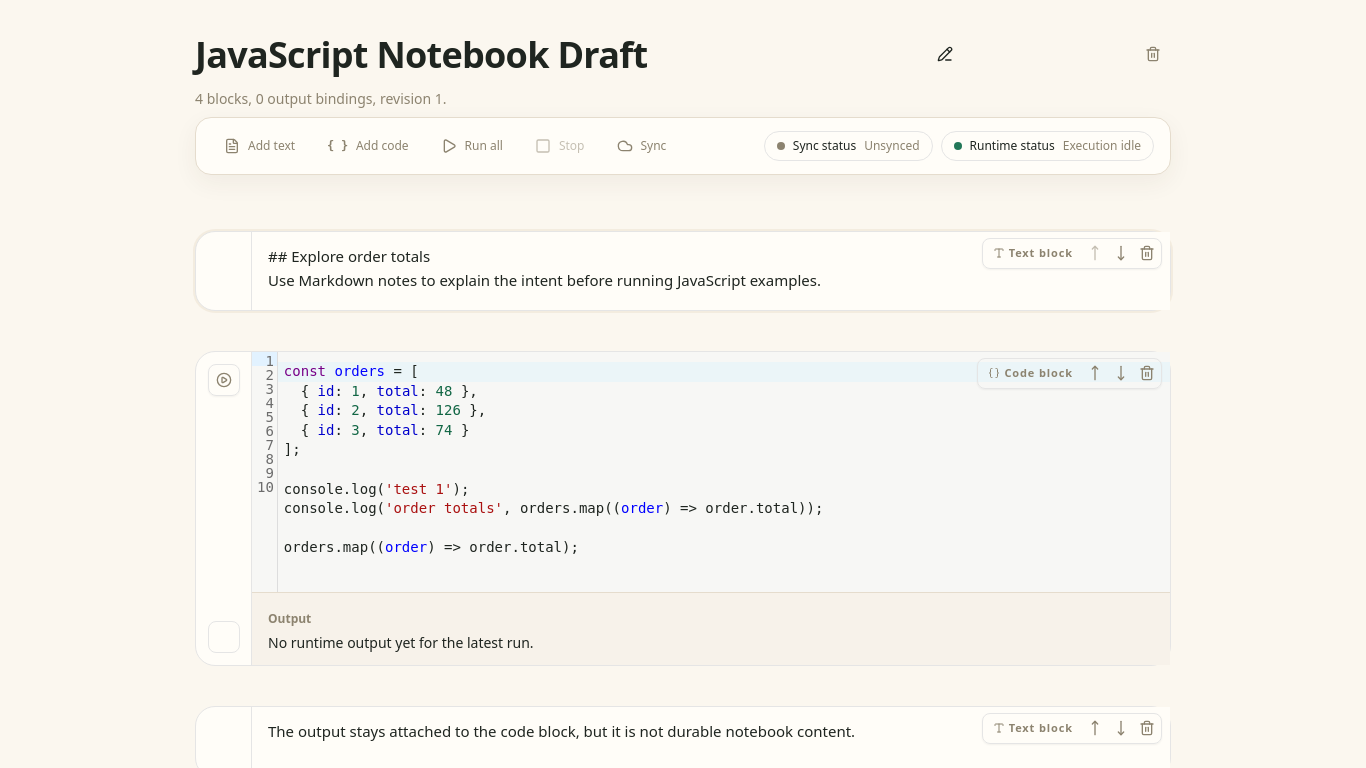
Test: NotebookEditorView › shows run actions and output placeholders for code blocks
Expected: the button "Run all" is shown, [429, 130, 515, 162]
Expected: the button "Stop" is shown, [523, 130, 596, 162]
Press the mouse on the button named "Run blk_prepare_data" at (224, 380), box [208, 364, 240, 396]
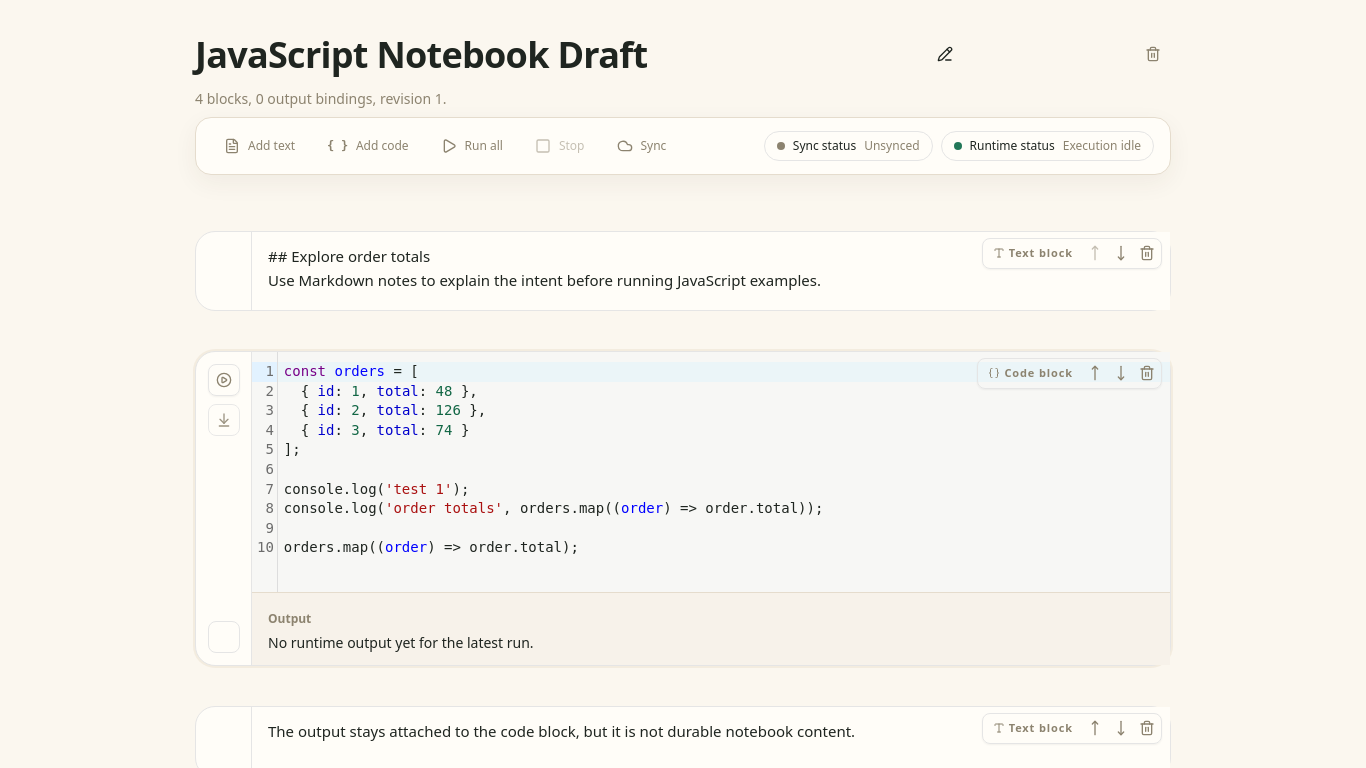
Expected: the button named "Run from here blk_prepare_data from gutter" is shown, [208, 404, 240, 436]
